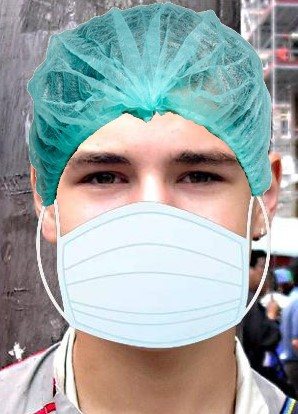with_mask_and_cap: (29, 2, 272, 350)
